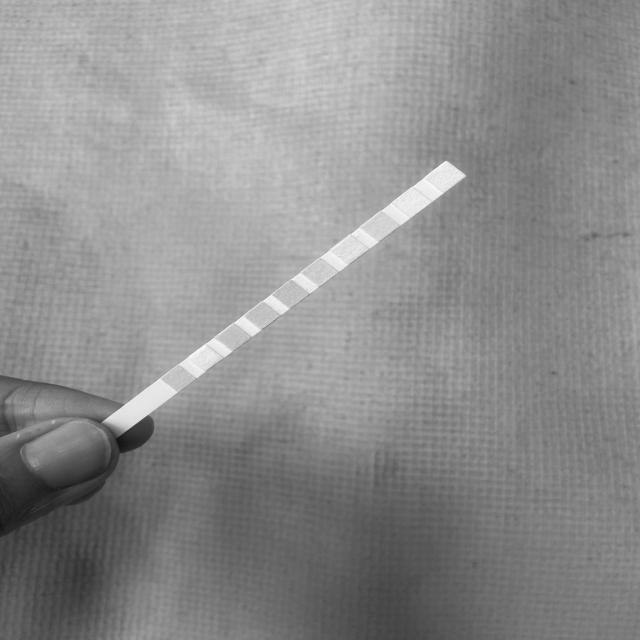Bilirubin: (196, 351, 213, 365)
Blood: (280, 286, 300, 302)
Glucose: (170, 371, 187, 386)
Ketone: (225, 330, 242, 345)
Leukocytes: (435, 169, 456, 185)
Nitrite: (401, 195, 421, 210)
Protein: (339, 242, 359, 258)
SpGravity: (252, 309, 271, 323)
Urobilinogen: (370, 219, 390, 234)
background: (0, 0, 640, 640)
pH: (310, 266, 329, 279)
strip: (105, 161, 467, 434)
